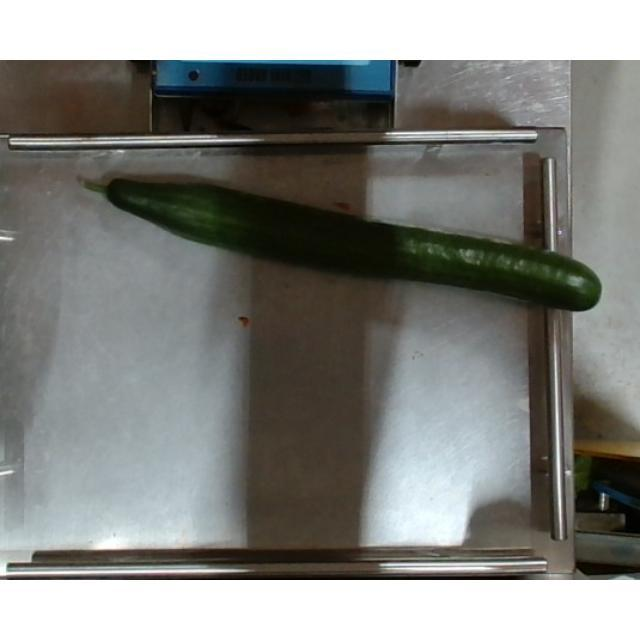cucumber: (80, 170, 604, 310)
